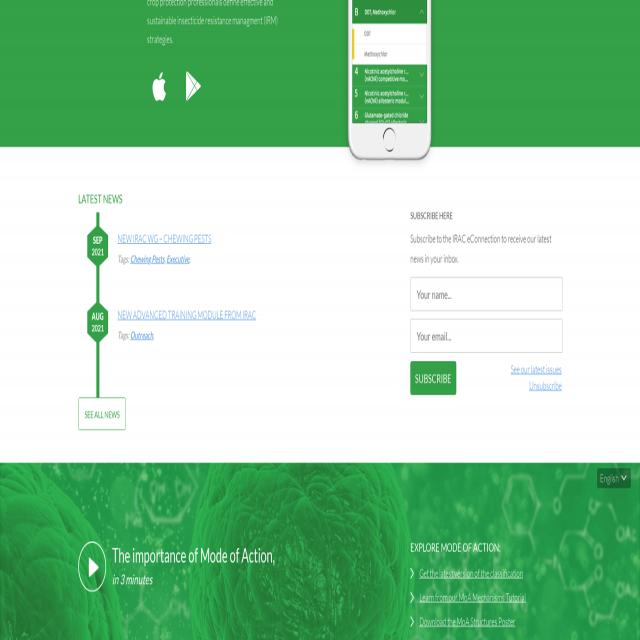button: (178, 59, 207, 117), (146, 60, 175, 116), (410, 361, 456, 395), (77, 542, 107, 592), (78, 398, 126, 429), (597, 470, 631, 488)
field: (411, 320, 562, 354), (410, 278, 563, 311)
